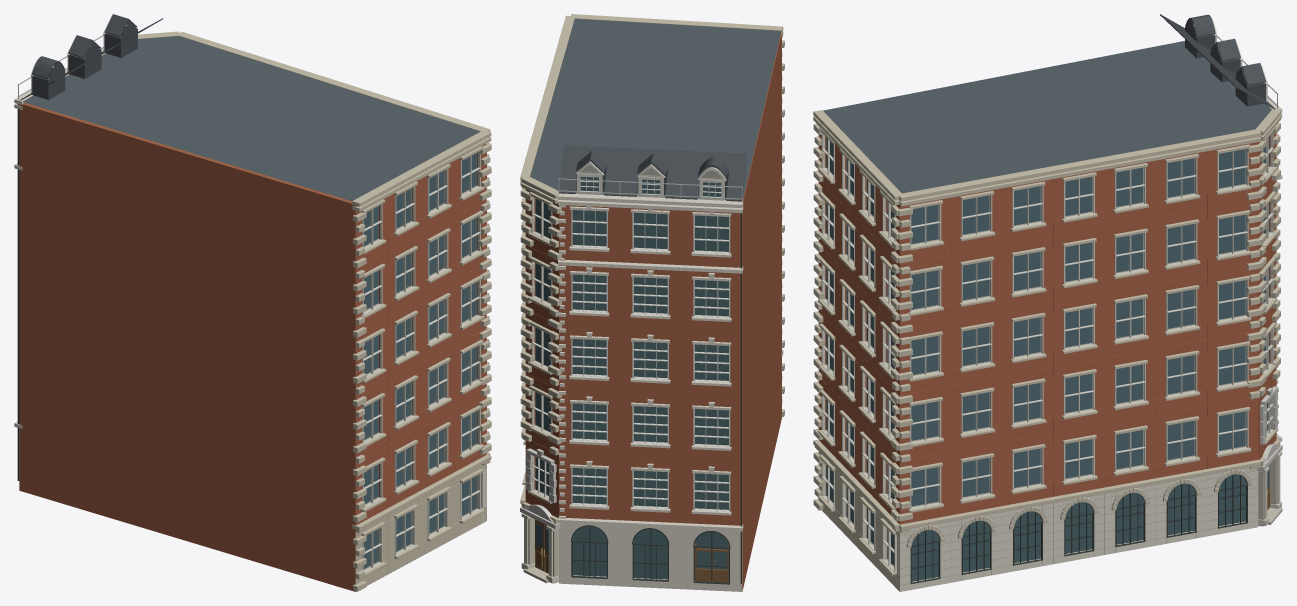
Rendered from 51l-exterior-a6a4fbc71ac1.glb.
3 views of the same model, side by side, from view 1: azimuth 30°, elevation 25°; view 2: azimuth 150°, elevation 25°; view 3: azimuth 270°, elevation 25° (orthographic).
Parts seen in each view (by area): view 1: 51L.001; view 2: 51L.001; view 3: 51L.001.
Part boxes in pixels (bbox=[...]): 51L.001: bbox=[14, 14, 491, 591]; 51L.001: bbox=[520, 14, 784, 591]; 51L.001: bbox=[813, 14, 1282, 591].
Bounding box in the file's own units: 18.34 × 22.82 × 22.47.
